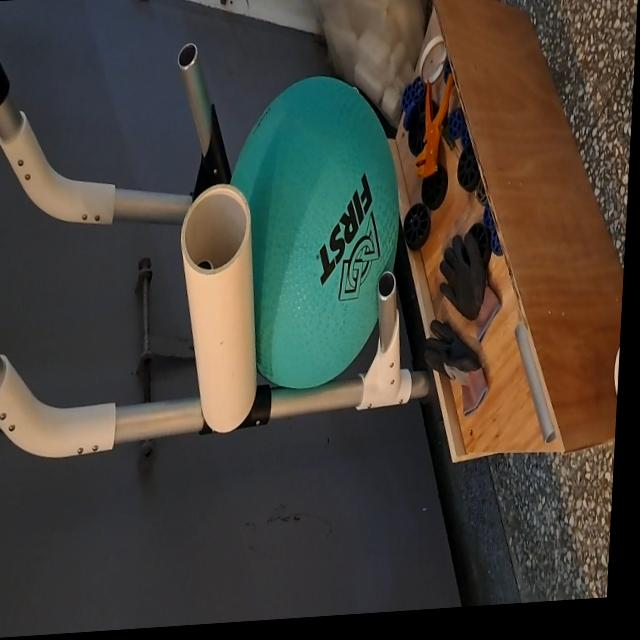ALGAE: (215, 64, 408, 391)
CORAL: (169, 176, 268, 440)
